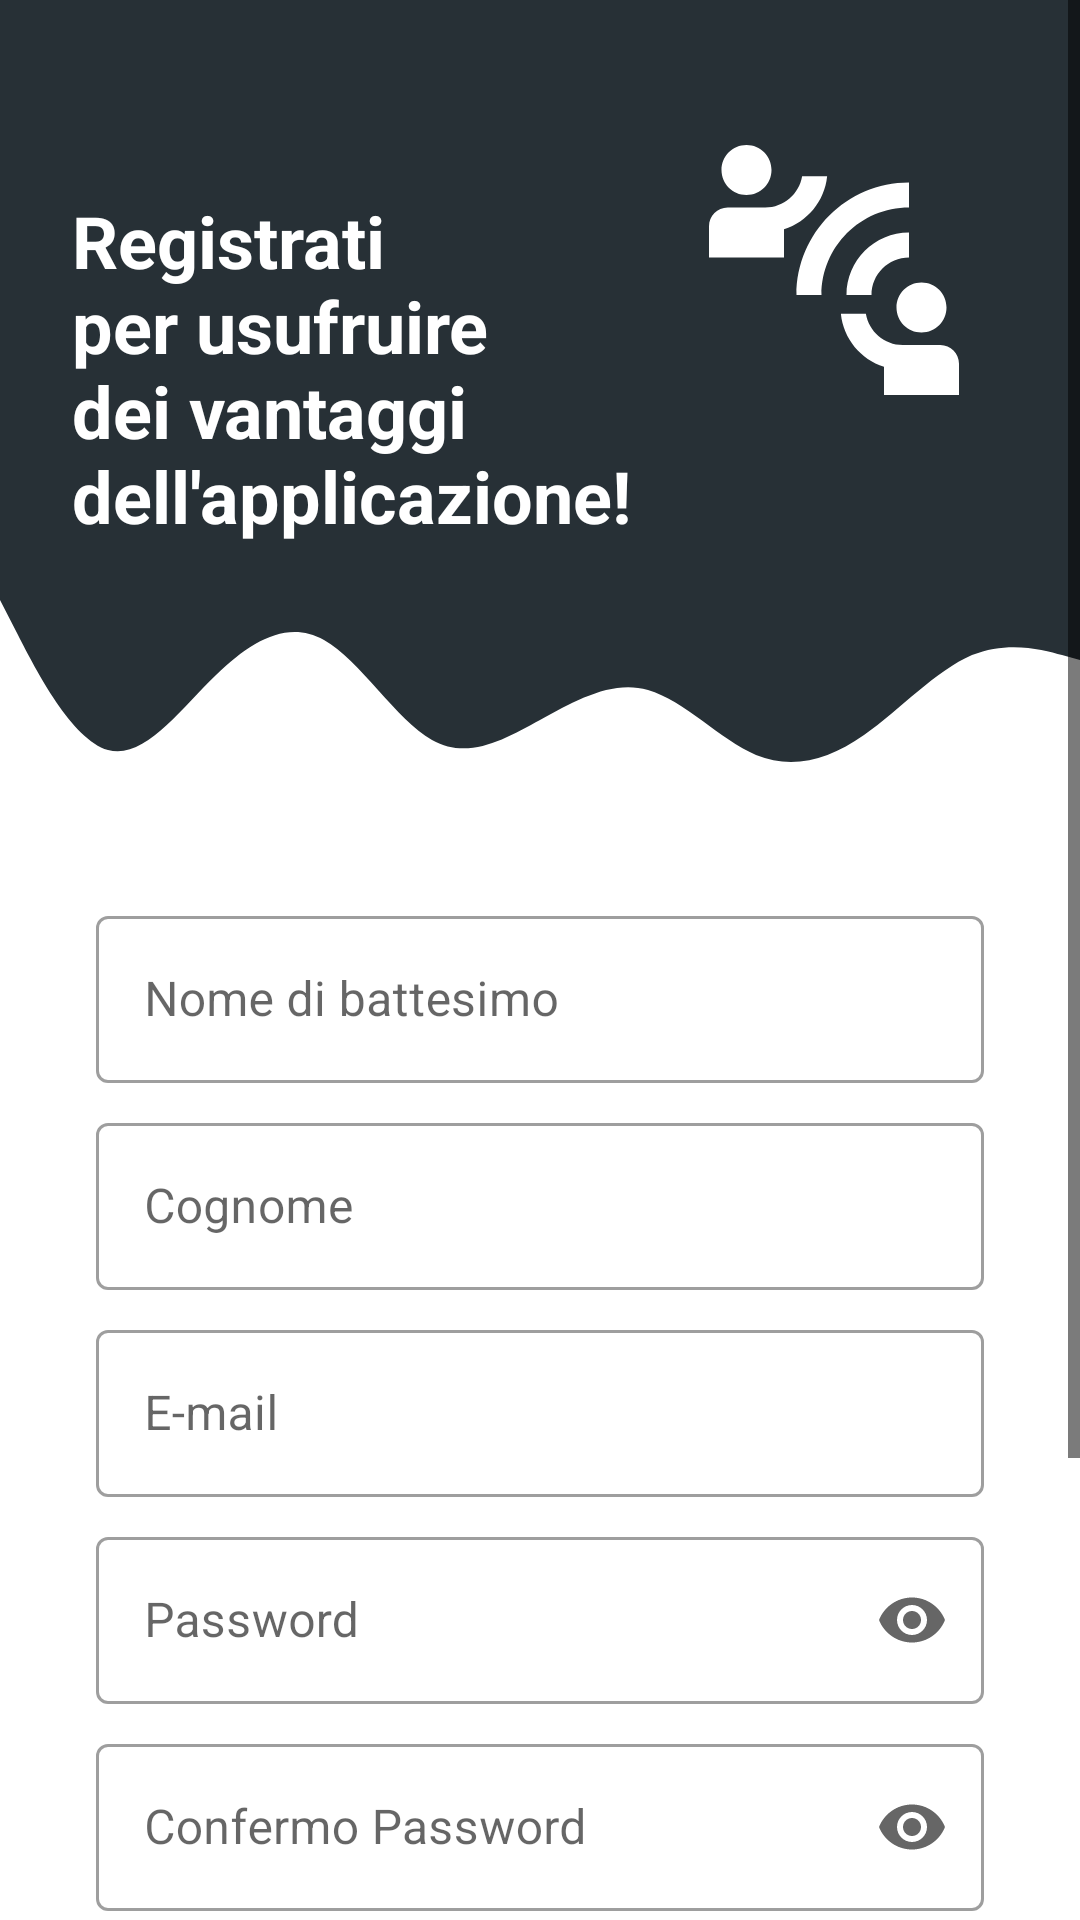

Where icons sit on this 1080×1920 app screen, as [x1, y1, x2, y2]:
contact: [709, 145, 959, 395]
